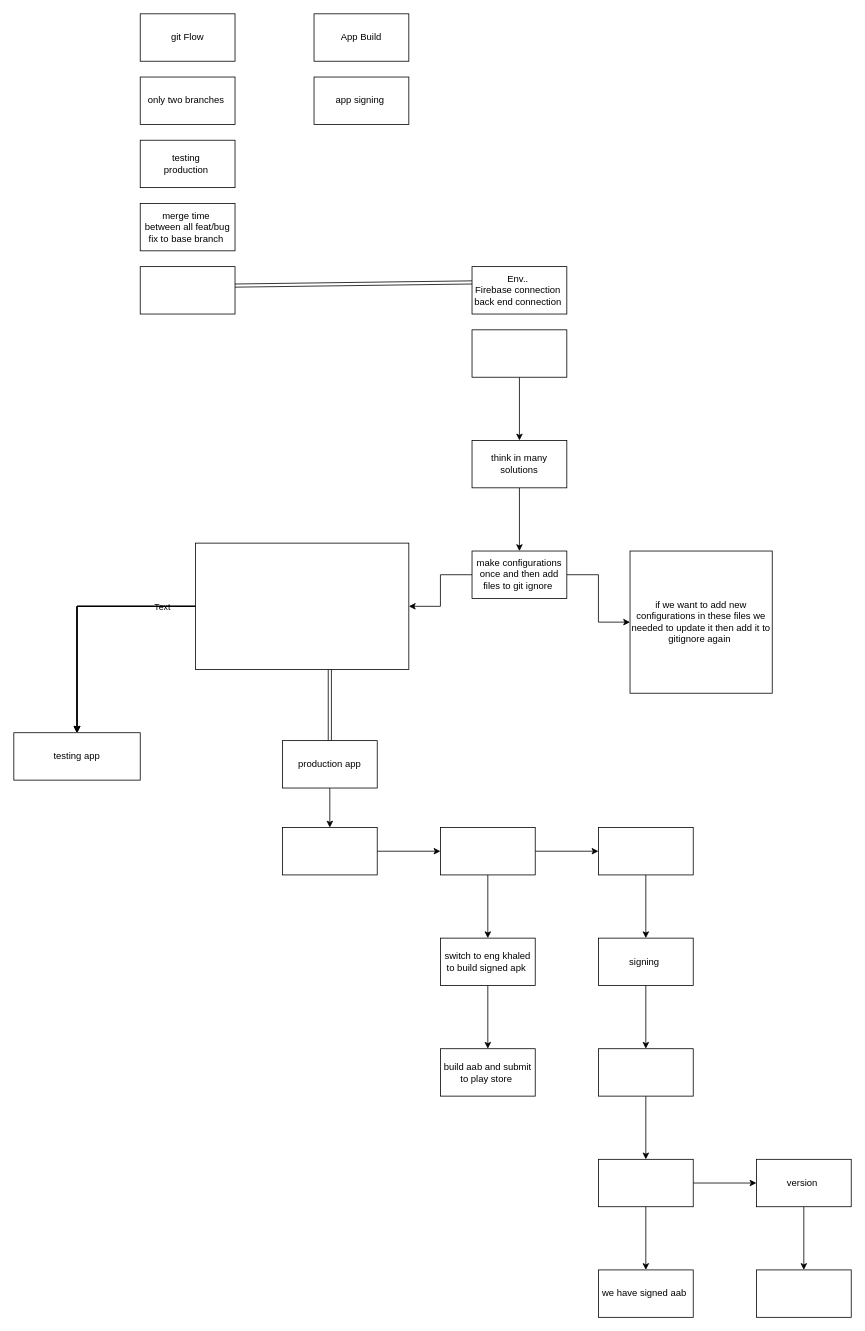
The diagram is 865 pixels wide and 1331 high, and some of its shapes have lost their labels. Here are the shapes that lost their labels. From the top down, the centre of each, then its label:
At (187,290): "merge between testing &&master branch".
At (519,353): "change from testing to master making bug by default as".
At (302,606): "add flavors for flutter".
At (329,851): "build signed apk".
At (487,851): "update master".
At (645,851): "use github actions to build".
At (645,1072): "add jks file in secrets of repo and make".
At (645,1183): "use gradle to build signed aab".
At (803,1293): "read version code and version number from 3rd party".
